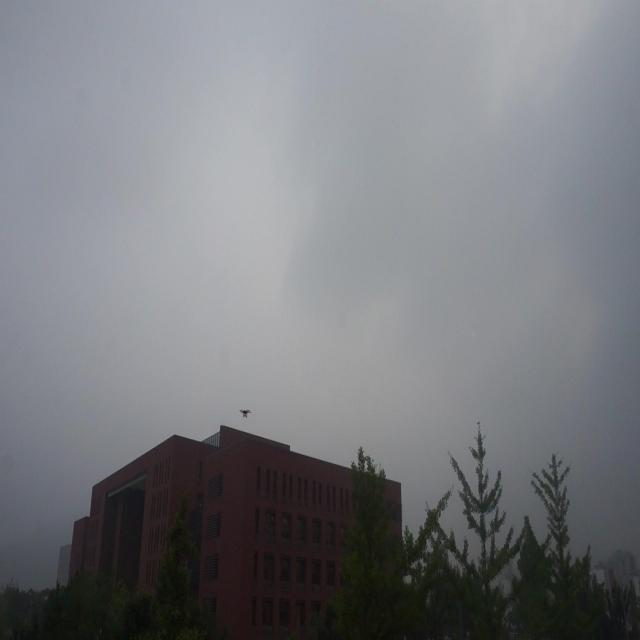UAV: (239, 409, 251, 418)
